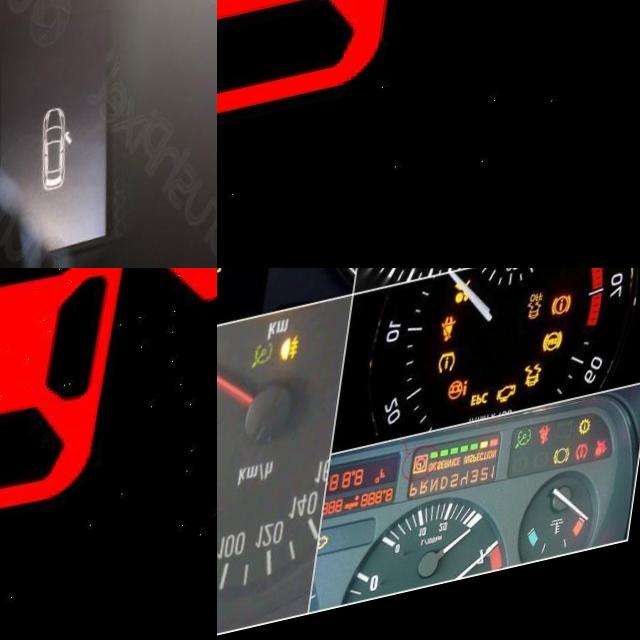Electronic Power Steering: (459, 398, 484, 425)
Seat Belt: (450, 335, 469, 364), (552, 450, 565, 469)
